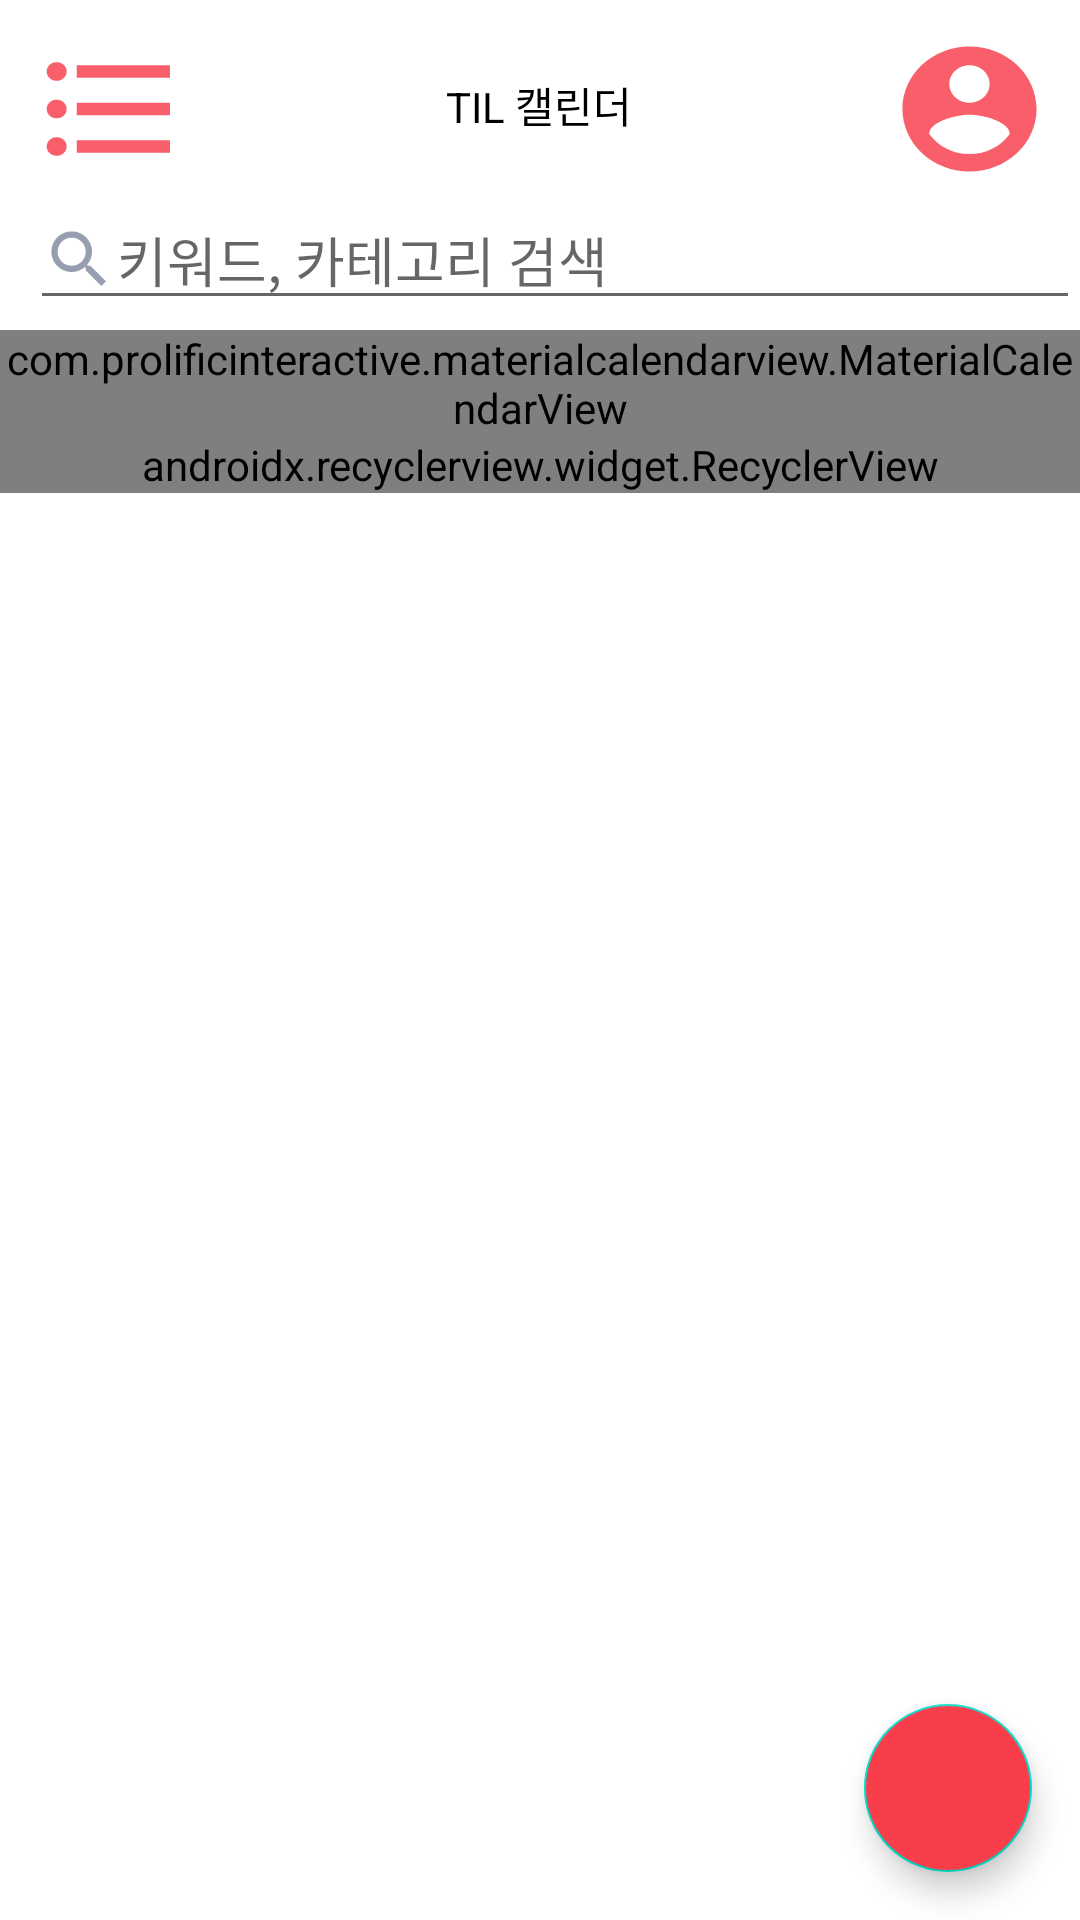

Icons on this 1080×1920 Android screen, each with its box as [left=x1, top=y1, right=x2, bottom=y2]:
account: [left=902, top=46, right=1037, bottom=172]
list: [left=46, top=62, right=170, bottom=156]
